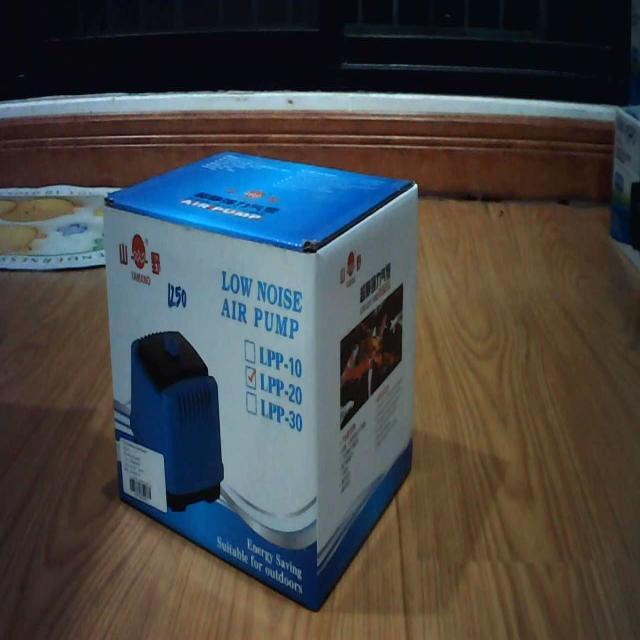YAMANO_LPP_20: (98, 143, 424, 619)
